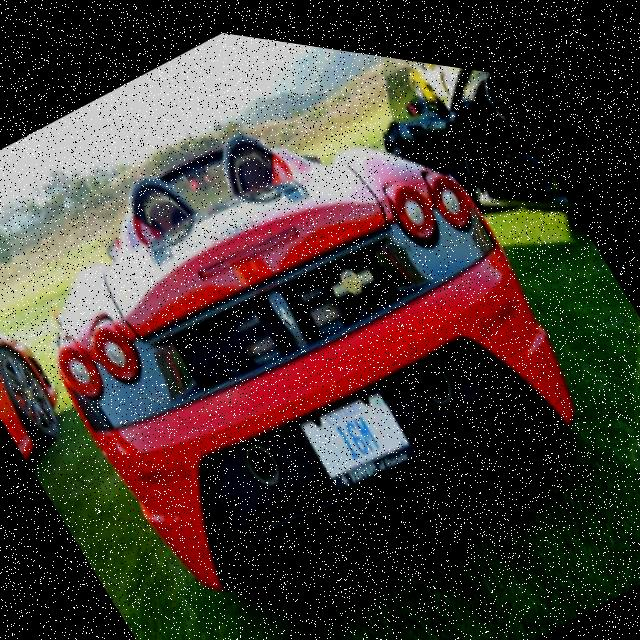license_plate: (292, 361, 418, 499)
